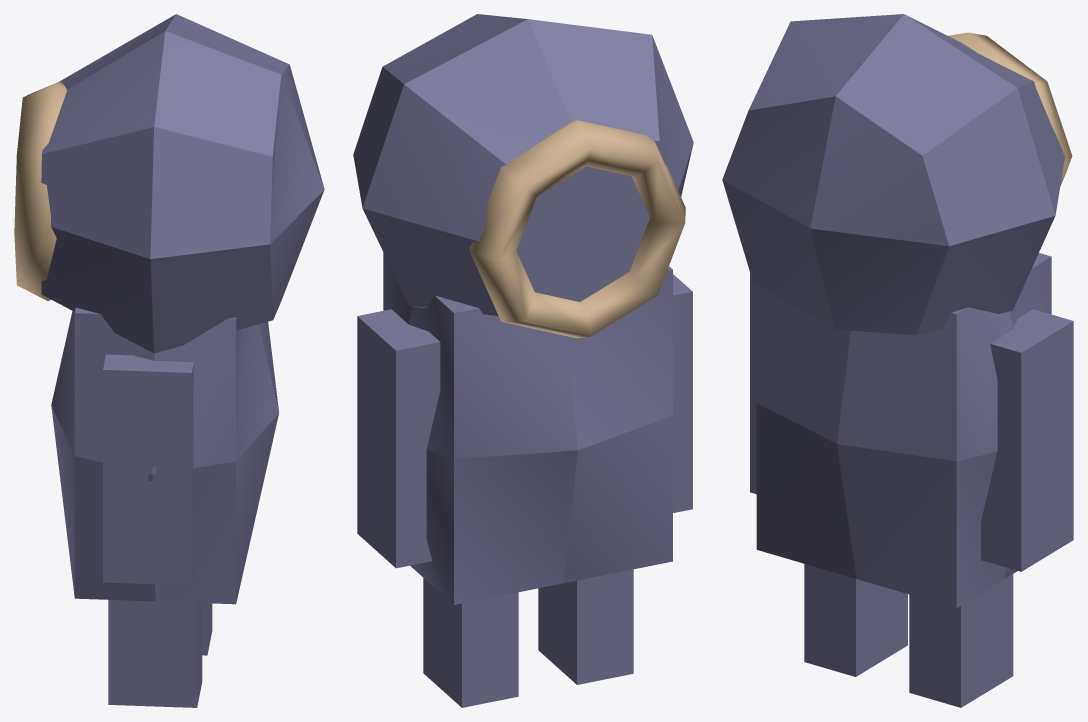
File: Player.fbx
The picture shows the model from 3 angles, left to right: view 1: azimuth 30°, elevation 25°; view 2: azimuth 150°, elevation 25°; view 3: azimuth 270°, elevation 25°; orthographic projection. The views are drawn at different scales.
Parts seen in each view (by area): view 1: Cube__3_, Cube, Cube__5_, Cube__2_, Torus, Cube__1_; view 2: Cube, Cube__3_, Torus, Cube__4_, Cube__1_, Cube__2_, Cube__5_; view 3: Cube__3_, Cube, Cube__4_, Cube__1_, Cube__2_, Torus, Cube__5_.
Boxes of the visible parts, left/top/right/bottom form: Cube__3_: left=41, top=14, right=324, bottom=353; Cube: left=51, top=307, right=278, bottom=604; Cube__5_: left=103, top=354, right=194, bottom=585; Cube__2_: left=108, top=600, right=202, bottom=707; Torus: left=14, top=81, right=66, bottom=300; Cube__1_: left=202, top=603, right=212, bottom=655; Cube: left=383, top=252, right=672, bottom=604; Cube__3_: left=353, top=14, right=693, bottom=317; Torus: left=469, top=120, right=685, bottom=338; Cube__4_: left=357, top=309, right=440, bottom=568; Cube__1_: left=423, top=578, right=518, bottom=707; Cube__2_: left=538, top=569, right=633, bottom=684; Cube__5_: left=673, top=274, right=692, bottom=512; Cube__3_: left=722, top=14, right=1064, bottom=335; Cube: left=756, top=253, right=1051, bottom=608; Cube__4_: left=981, top=309, right=1073, bottom=571; Cube__1_: left=909, top=574, right=1013, bottom=707; Cube__2_: left=804, top=564, right=907, bottom=676; Torus: left=948, top=32, right=1072, bottom=186; Cube__5_: left=750, top=273, right=756, bottom=494.
Bounding box in the file's own units: 83.64 × 169 × 82.06.
